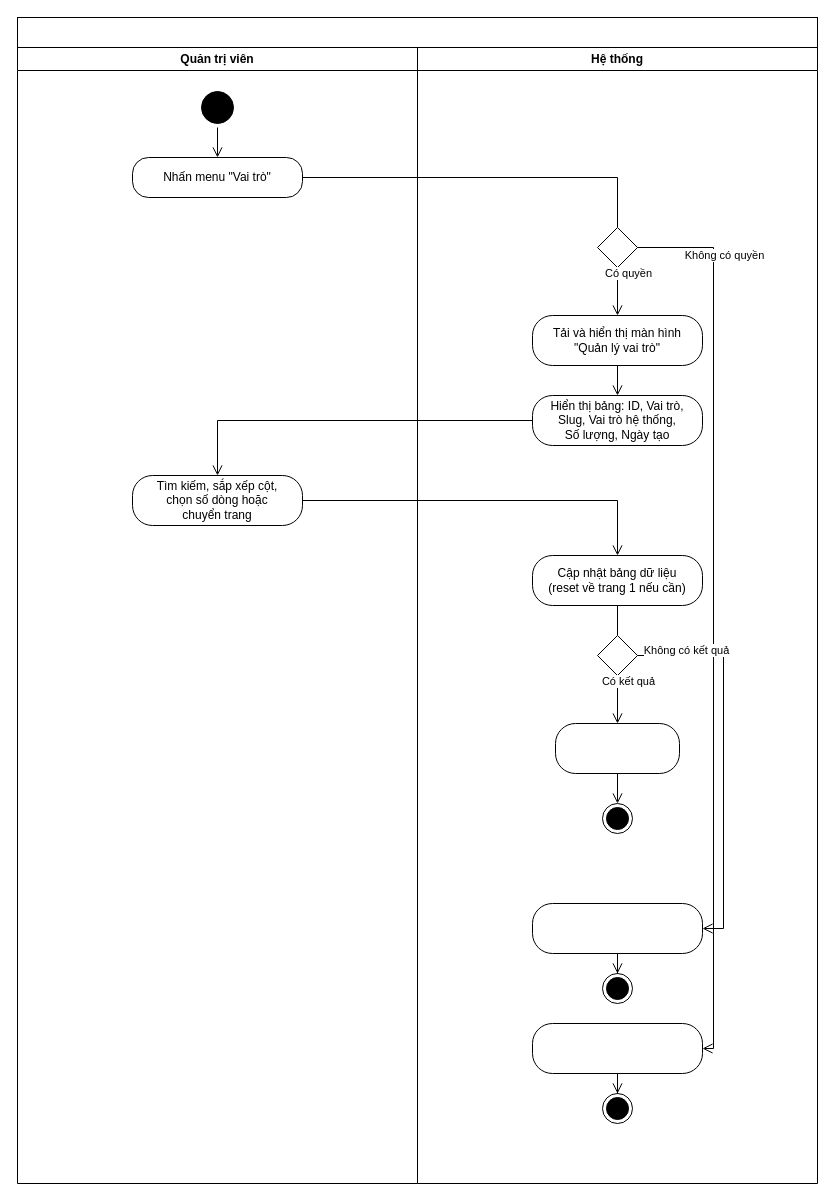
Some shapes in this 835 by 1201 pixel diagram are drawn without their labels. Each missing label, with the centre of its shape:
Hiển thị "Không tìm thấy kết quả phù hợp.": point (617, 928)
Hiển thị bảng kết quả: point (617, 748)
Hiện toast thông báo không có quyền: point (617, 1048)
XEM DANH SÁCH VAI TRÒ: point (417, 32)
